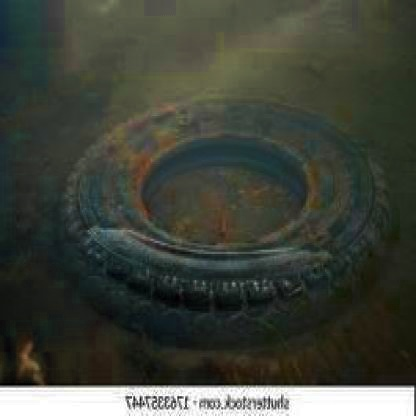tire: (53, 88, 391, 335)
